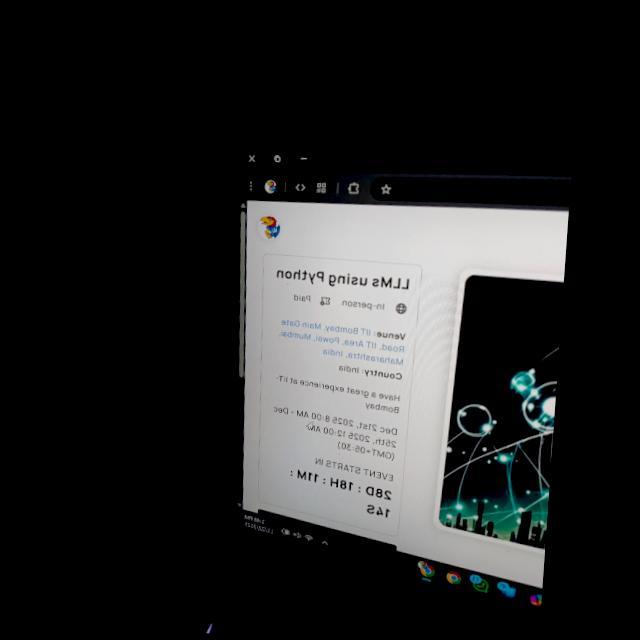laptop: (119, 124, 570, 640)
